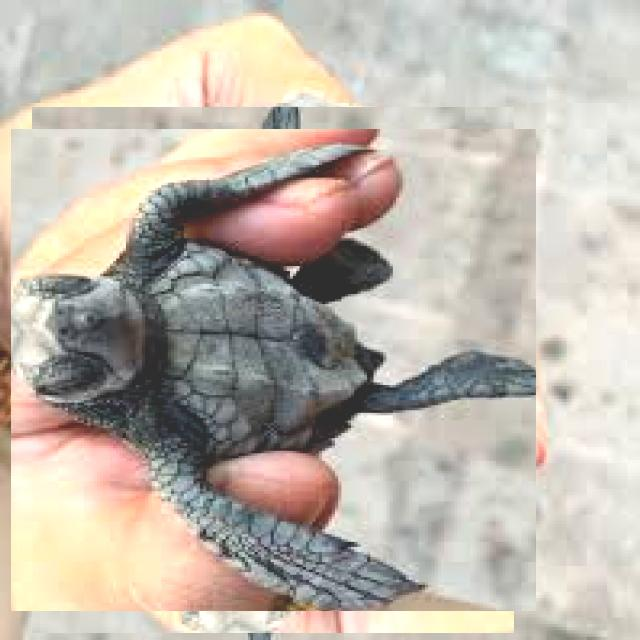Sea turtle: (21, 118, 525, 622)
